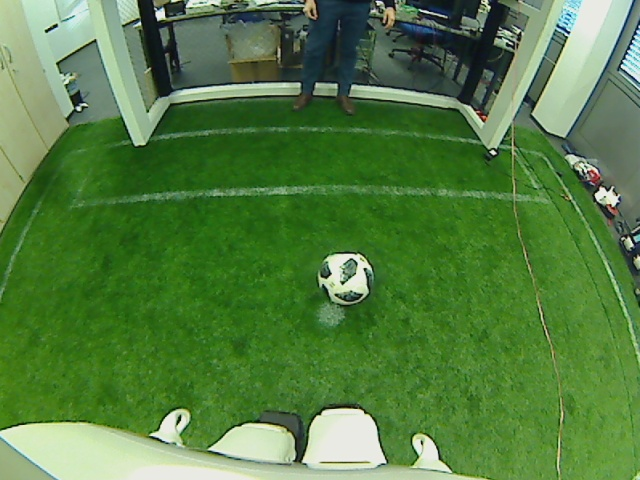ball: (314, 248, 374, 307)
